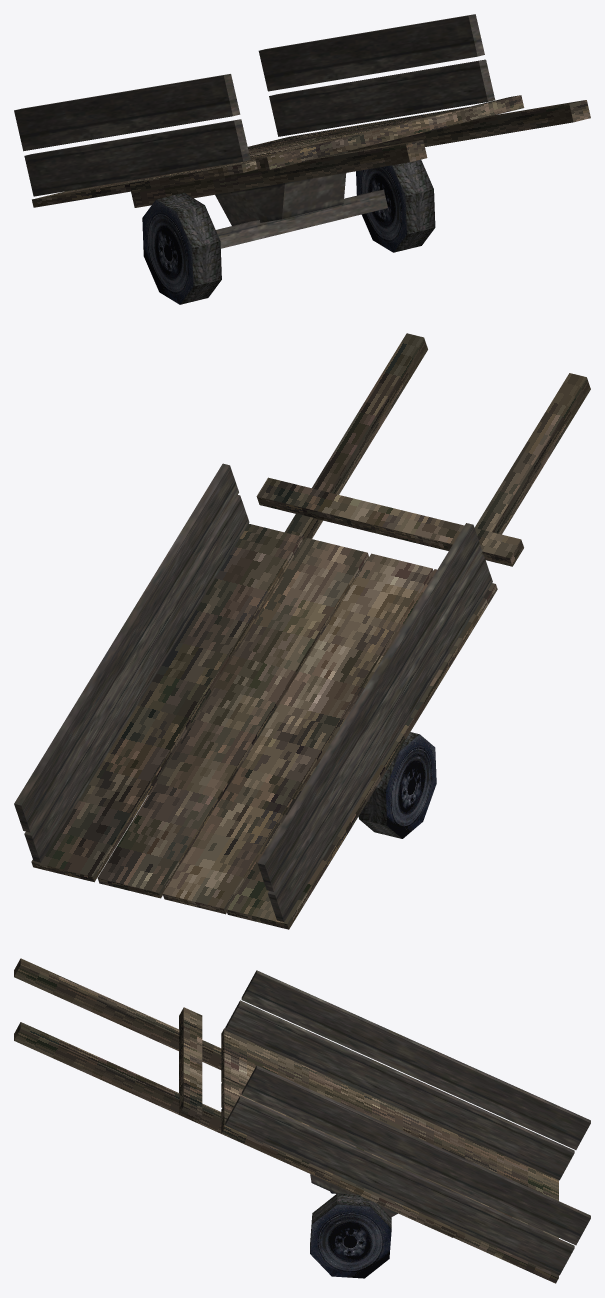
File: dyn_cart.obj
3 views of the same model, one above another, from view 1: azimuth 30°, elevation 25°; view 2: azimuth 150°, elevation 25°; view 3: azimuth 270°, elevation 25° (orthographic). The views are drawn at different scales.
Visible parts, largest first — view 1: DYN_CART; view 2: DYN_CART; view 3: DYN_CART.
Part boxes in pixels (box(x1,y1,x2,y2)): DYN_CART: box(14, 14, 590, 304); DYN_CART: box(14, 333, 590, 929); DYN_CART: box(14, 958, 590, 1283).
Bounding box in the file's own units: 1.57 × 1.75 × 3.82.
